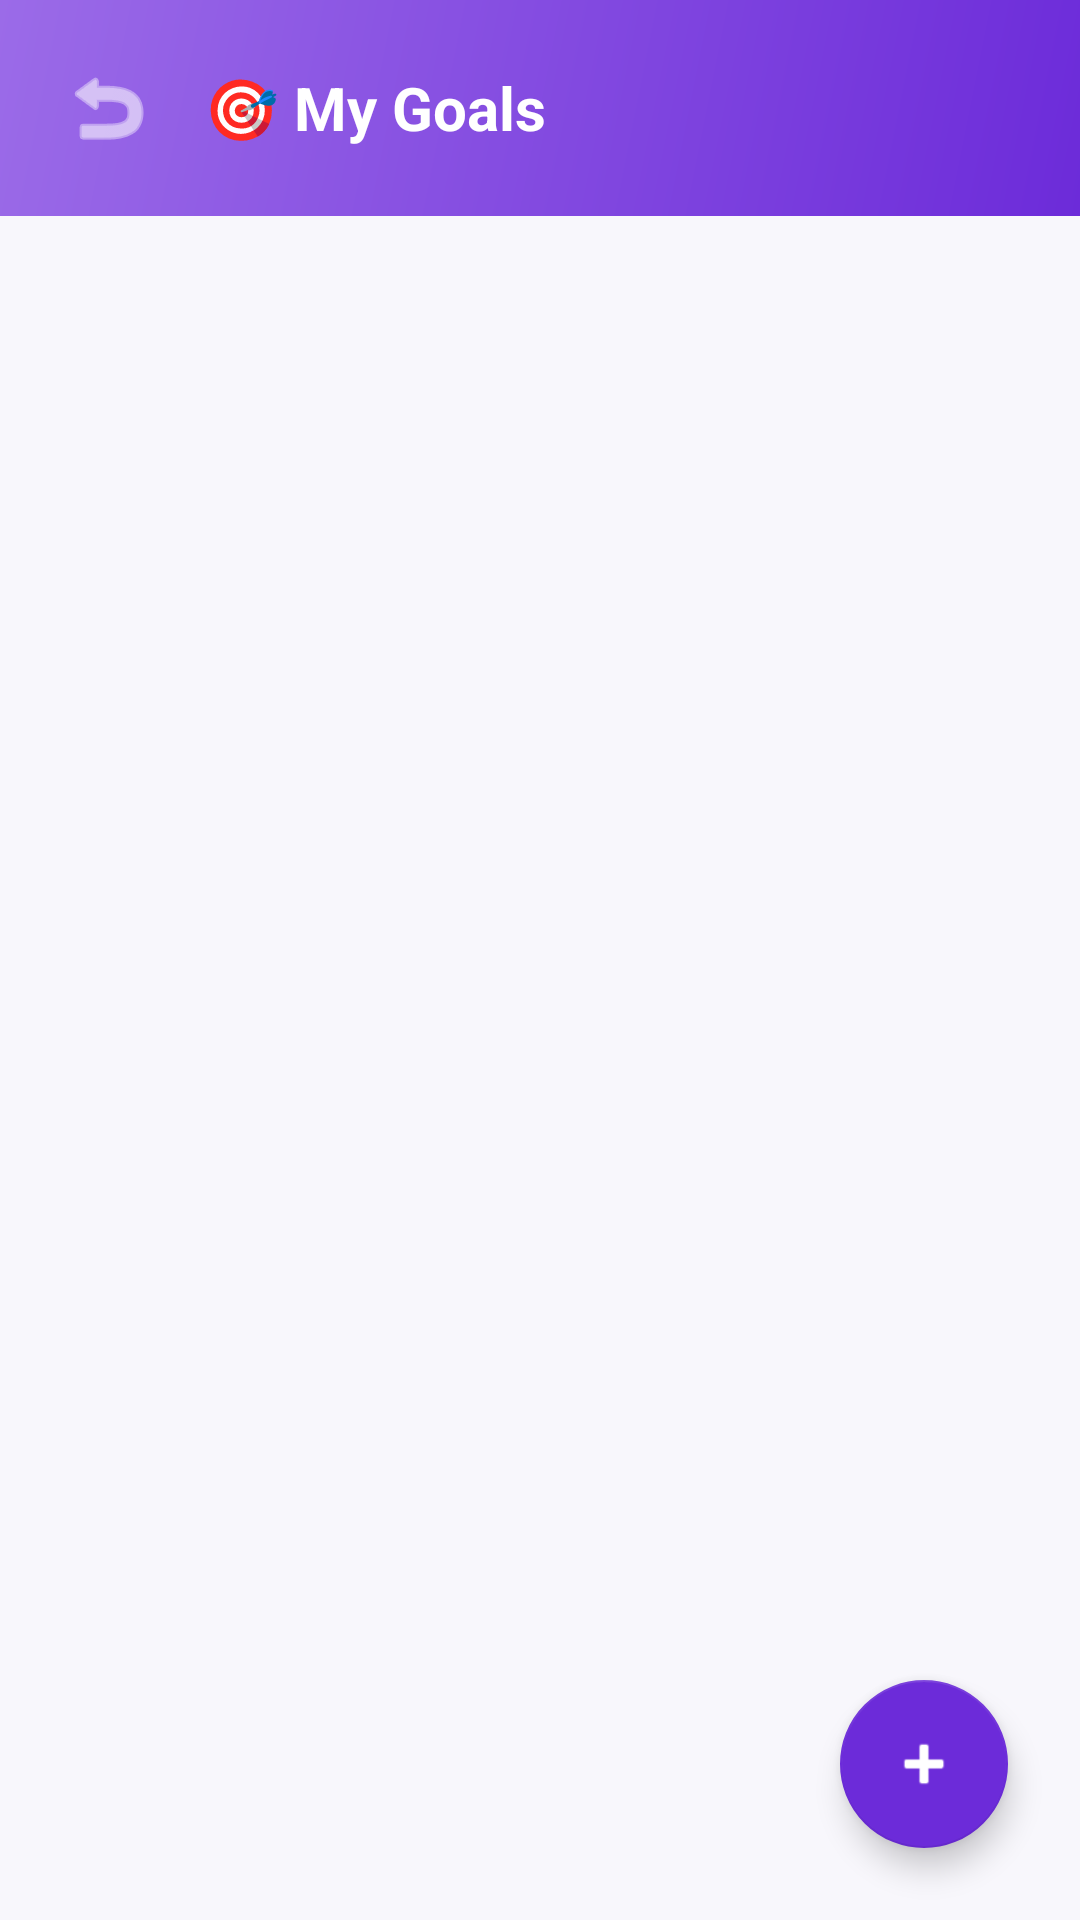

Named icons in this screenshot (1080x1920) and their bounding boxes, BBox(x1, y1, x2, y2):
Add Goal: BBox(840, 1680, 1008, 1848)
Back: BBox(75, 77, 144, 140)
